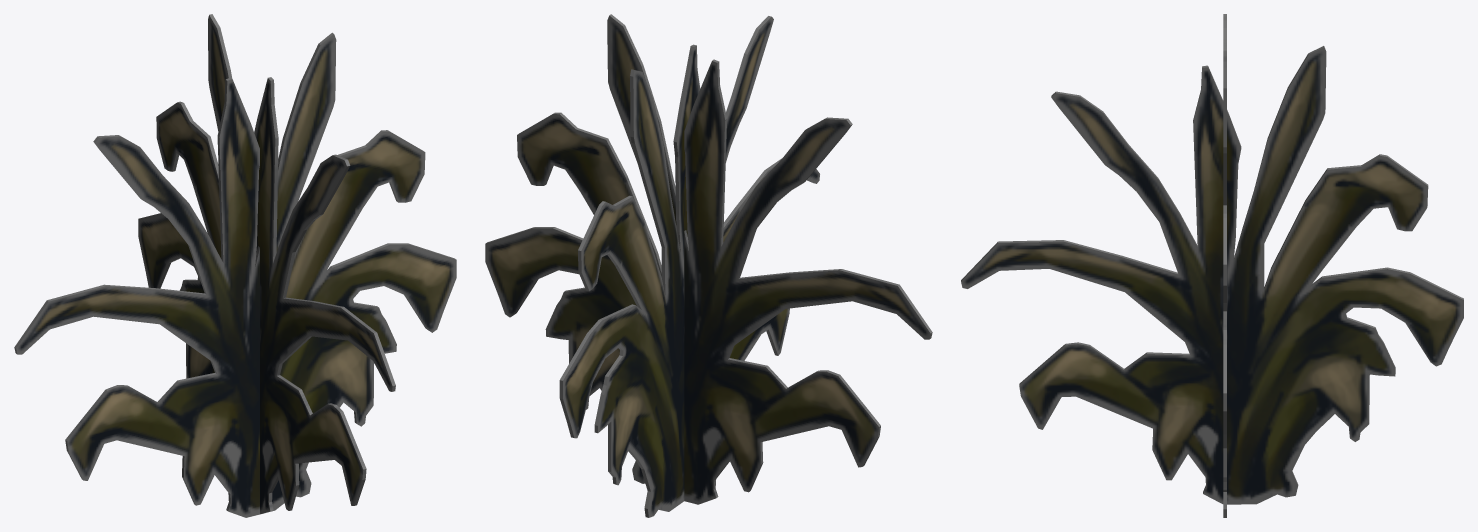
File: PROP_Grass.fbx
The picture shows the model from 3 angles, left to right: view 1: azimuth 30°, elevation 25°; view 2: azimuth 150°, elevation 25°; view 3: azimuth 270°, elevation 25°; orthographic projection. The views are drawn at different scales.
Visible parts, largest first — view 1: PROP_Grass; view 2: PROP_Grass; view 3: PROP_Grass.
Part boxes in pixels (bbox=[...]): PROP_Grass: bbox=[14, 14, 456, 517]; PROP_Grass: bbox=[485, 14, 932, 517]; PROP_Grass: bbox=[961, 14, 1463, 517].
Bounding box in the file's own units: 343 × 345 × 343.
